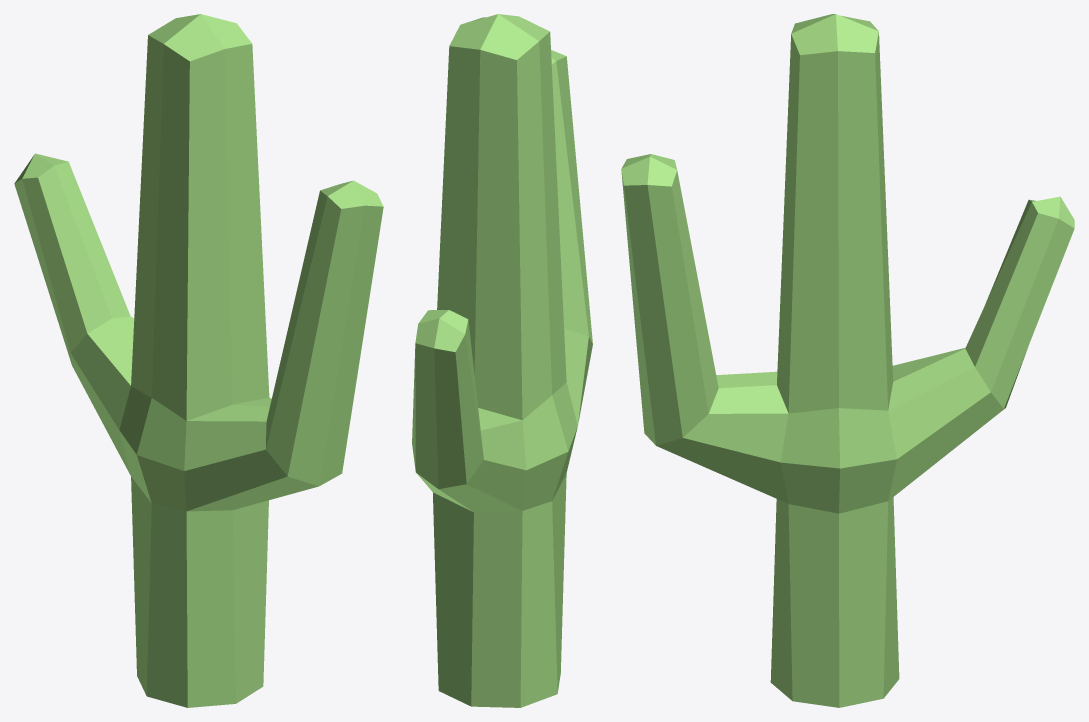
The model's file is cactus_l.glb.
The picture shows the model from 3 angles, left to right: view 1: azimuth 30°, elevation 25°; view 2: azimuth 150°, elevation 25°; view 3: azimuth 270°, elevation 25°; orthographic projection.
Visible parts, largest first — view 1: Cactus; view 2: Cactus; view 3: Cactus.
Part boxes in pixels (x1,y1,x2,y2): Cactus: (14,14,383,707); Cactus: (412,14,592,707); Cactus: (621,14,1074,707).
Bounding box in the file's own units: 1.18 × 4.85 × 2.99.
